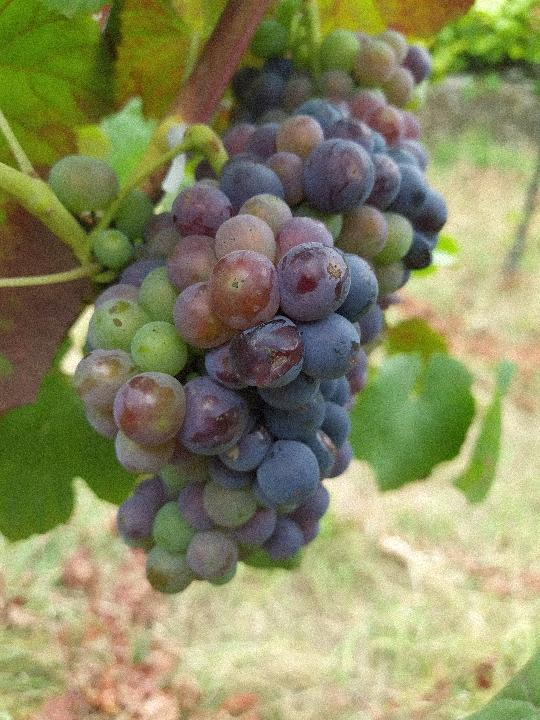grape: (69, 112, 387, 598)
